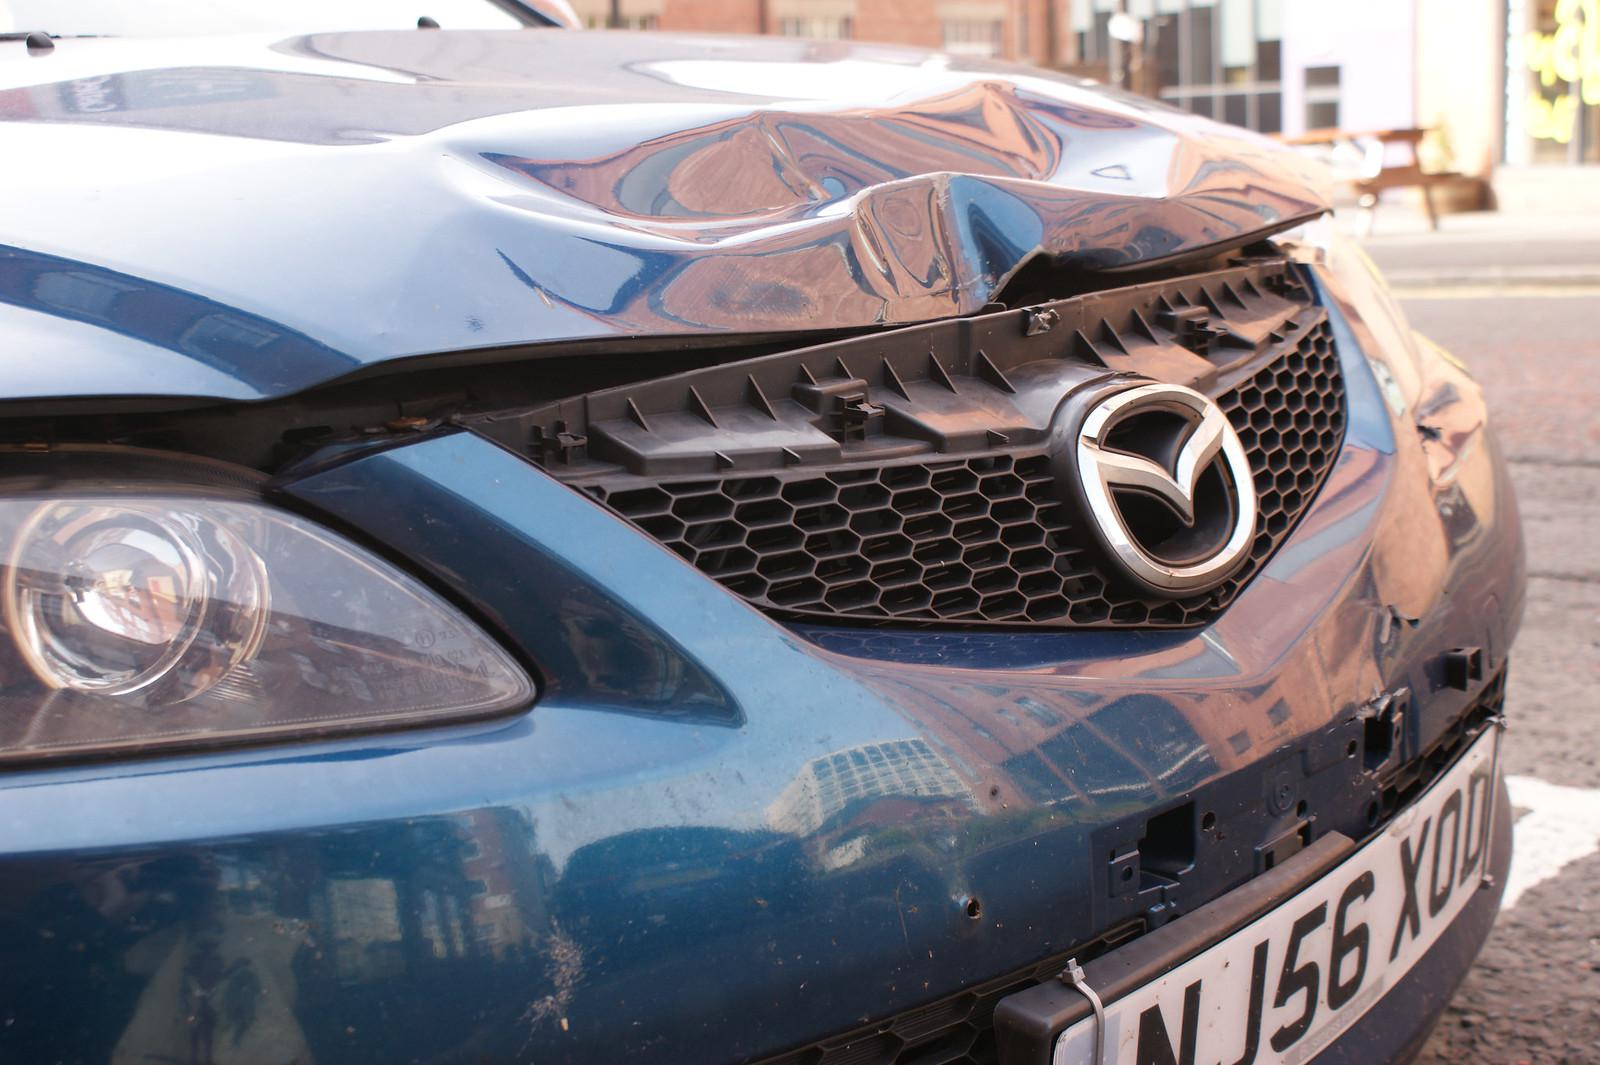bonnet-dent: (6, 33, 1327, 349)
front-bumper-dent: (0, 628, 1561, 1064)
